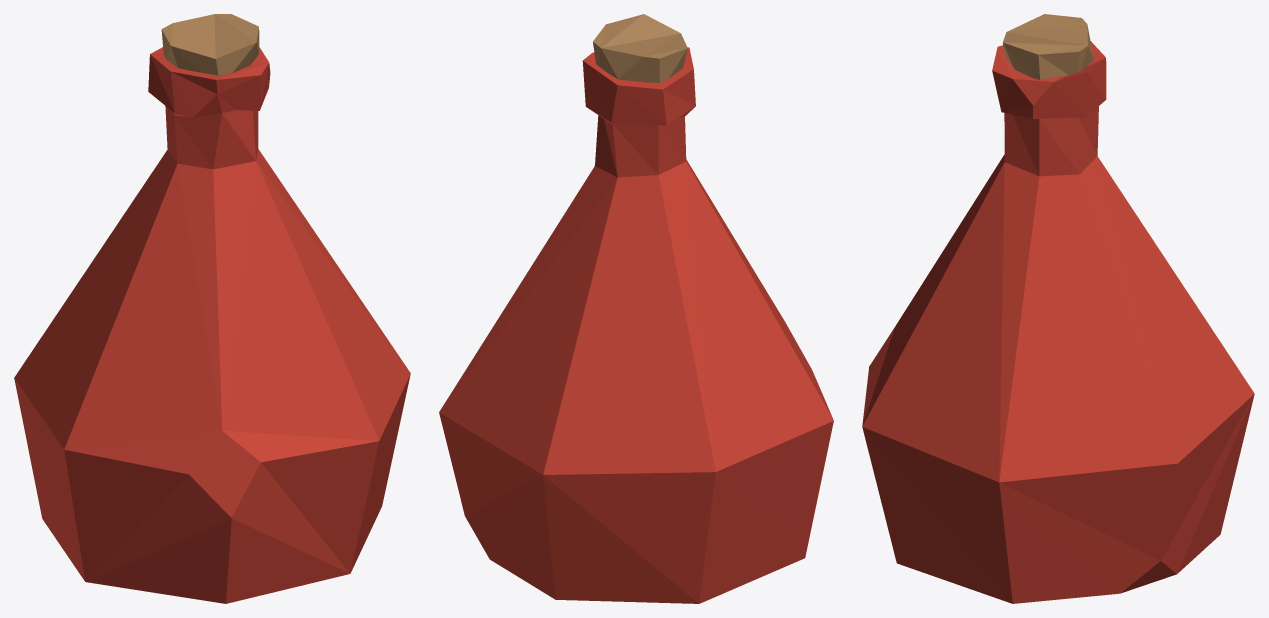
The model's file is AWS_Potion_Red_011.fbx.
3 renders of one model, left to right at view 1: azimuth 30°, elevation 25°; view 2: azimuth 150°, elevation 25°; view 3: azimuth 270°, elevation 25°, orthographic.
Parts seen in each view (by area): view 1: AWS_Potion_Red_011; view 2: AWS_Potion_Red_011; view 3: AWS_Potion_Red_011.
Boxes of the visible parts, x1,y1,x2,y2 form: AWS_Potion_Red_011: (14,14,410,603); AWS_Potion_Red_011: (439,14,833,603); AWS_Potion_Red_011: (862,14,1254,603).
Size of the model in its own units: 8.97 by 12.54 by 8.89.
